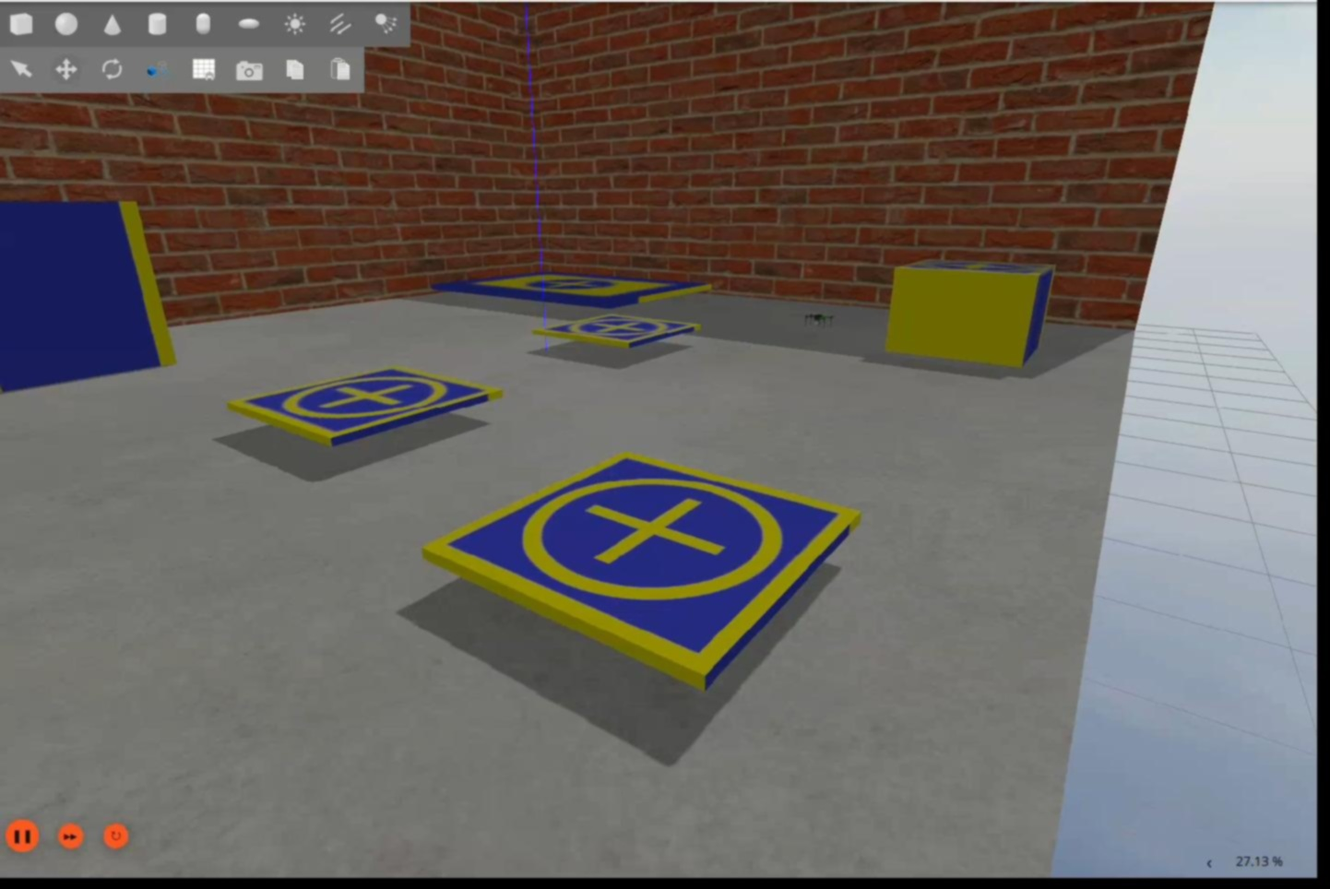large_base: (431, 267, 717, 314)
small_base: (425, 455, 866, 691), (232, 367, 505, 449), (532, 308, 705, 358), (897, 256, 1062, 288)
